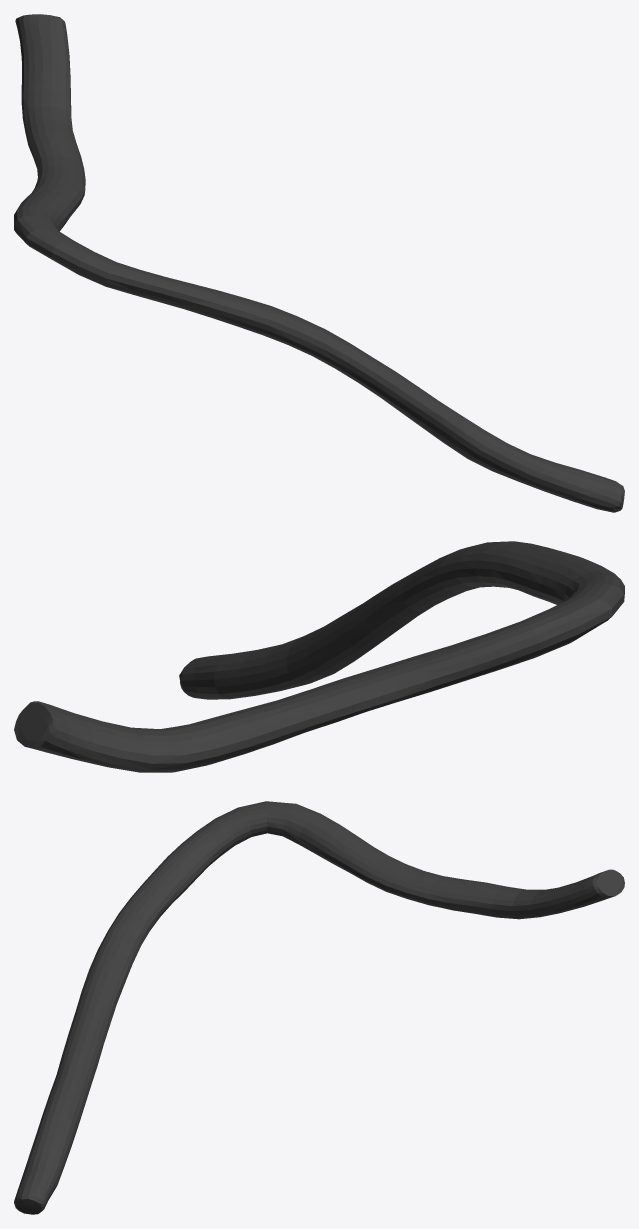
File: NERVE_VII_intracranial_L.glb
The picture shows the model from 3 angles, top to bottom: view 1: azimuth 30°, elevation 25°; view 2: azimuth 150°, elevation 25°; view 3: azimuth 270°, elevation 25°; orthographic projection. The views are drawn at different scales.
Parts seen in each view (by area): view 1: NERVE_VII_intracranial_L; view 2: NERVE_VII_intracranial_L; view 3: NERVE_VII_intracranial_L.
Part boxes in pixels (<box>): NERVE_VII_intracranial_L: <box>14,14,624,512</box>; NERVE_VII_intracranial_L: <box>14,541,624,772</box>; NERVE_VII_intracranial_L: <box>14,801,624,1214</box>.
Bounding box in the file's own units: 3.19 × 2 × 4.46.
Materials: 1 (1 with a texture image).
